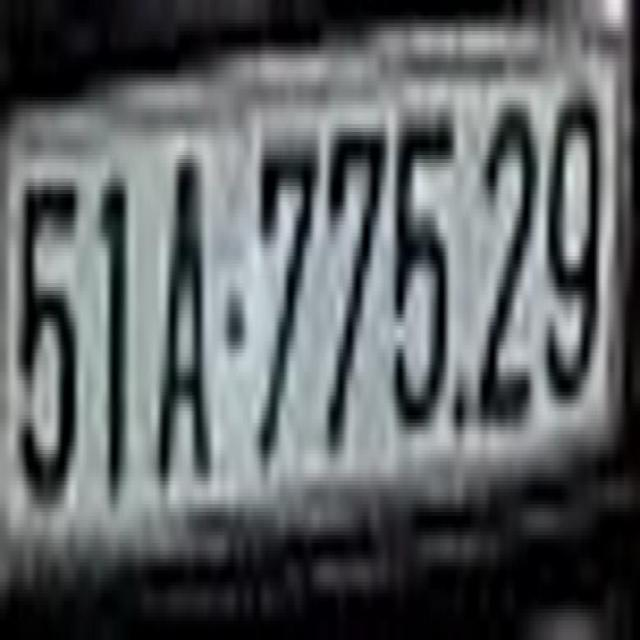1: (96, 171, 128, 504)
2: (478, 101, 538, 430)
5: (17, 163, 76, 496), (394, 112, 449, 434)
7: (255, 124, 321, 485), (326, 128, 386, 442)
9: (548, 93, 602, 415)
A: (156, 143, 212, 481)
